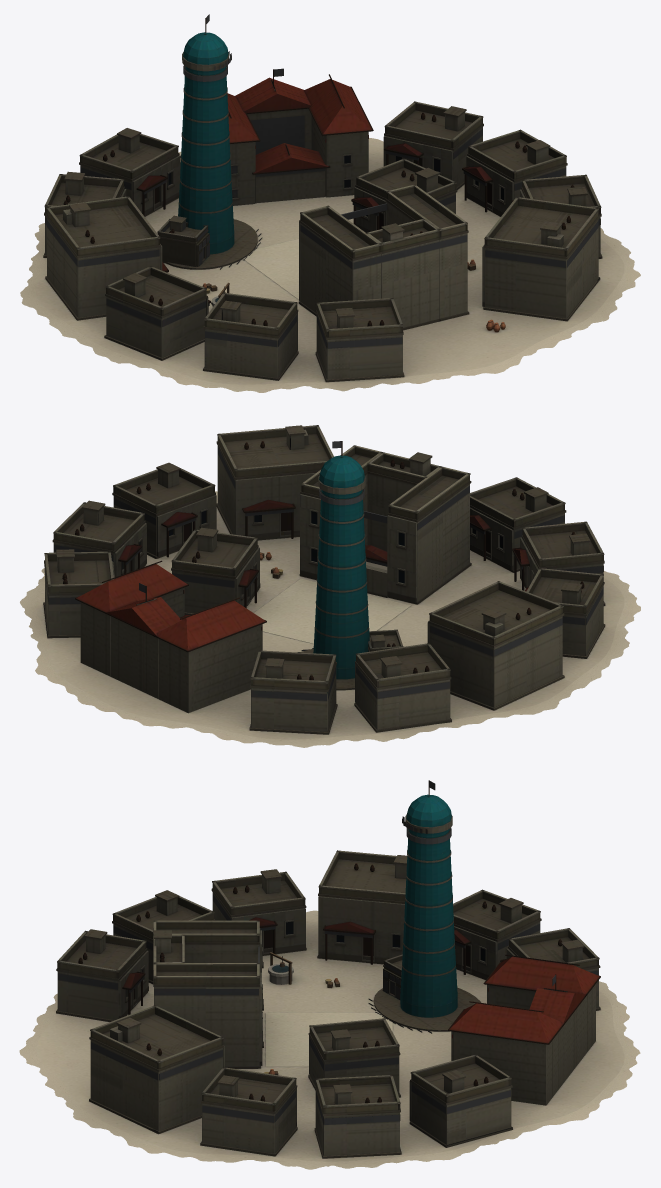
File: gunpowder-town-medium-b-steppe-57e74d7d.glb
3 renders of one model, top to bottom at view 1: azimuth 30°, elevation 25°; view 2: azimuth 150°, elevation 25°; view 3: azimuth 270°, elevation 25°, orthographic.
Visible parts, largest first — view 1: LOD0; view 2: LOD0; view 3: LOD0.
Part boxes in pixels (left/top/right/bottom): LOD0: left=20, top=14, right=640, bottom=392; LOD0: left=20, top=425, right=640, bottom=747; LOD0: left=19, top=780, right=640, bottom=1169.
Size of what is drawn, in the model's own units: 5.92 by 2.4 by 6.
3 materials, 3 textured.
